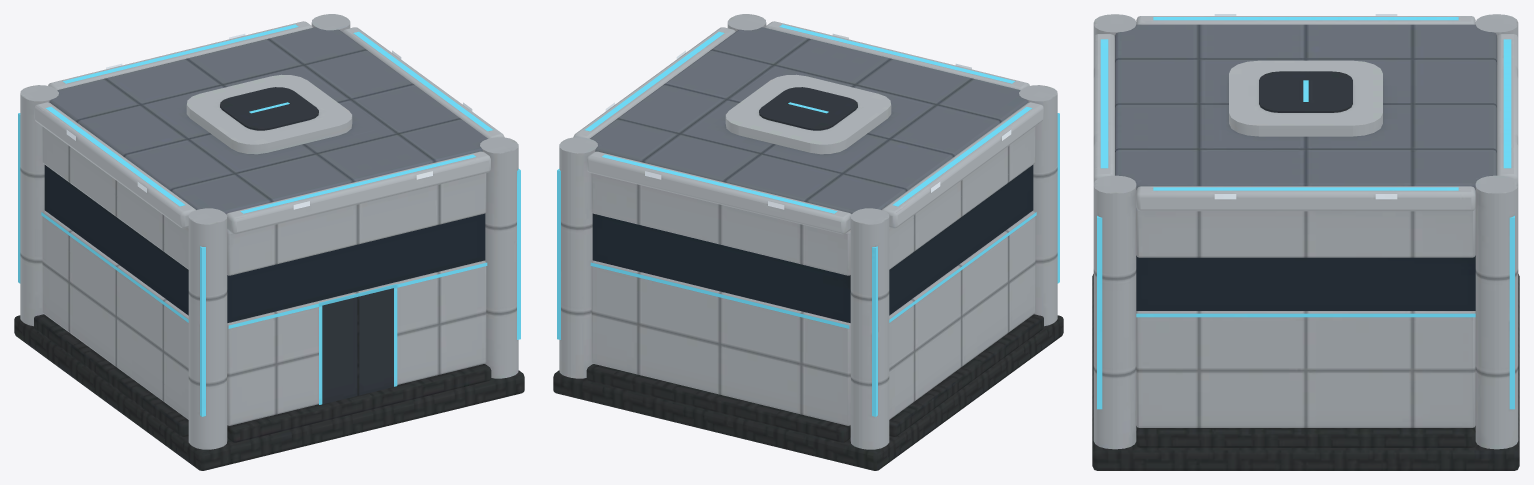
The model's file is hull_enterprise_hull_standard_closed.glb.
The picture shows the model from 3 angles, left to right: view 1: azimuth 30°, elevation 25°; view 2: azimuth 150°, elevation 25°; view 3: azimuth 270°, elevation 25°; orthographic projection. The views are drawn at different scales.
Visible parts, largest first — view 1: te_hull_enterprise_hull_standard_closed; view 2: te_hull_enterprise_hull_standard_closed; view 3: te_hull_enterprise_hull_standard_closed.
Boxes of the visible parts, x1,y1,x2,y2 form: te_hull_enterprise_hull_standard_closed: [14, 14, 524, 470]; te_hull_enterprise_hull_standard_closed: [553, 14, 1063, 470]; te_hull_enterprise_hull_standard_closed: [1092, 14, 1519, 470].
Bounding box in the file's own units: 1 × 0.7536 × 1.
Materials: 1 (1 with a texture image).
